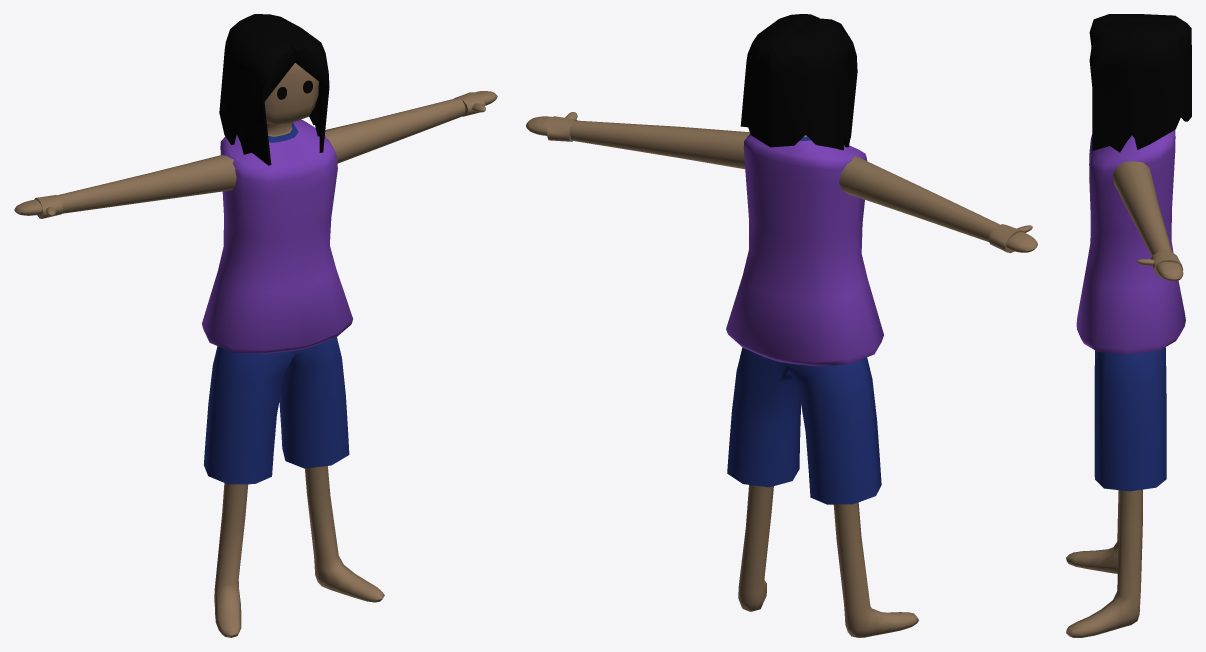
Rendered from personagemfeio (1).fbx.
3 renders of one model, left to right at view 1: azimuth 30°, elevation 25°; view 2: azimuth 150°, elevation 25°; view 3: azimuth 270°, elevation 25°, orthographic. The views are drawn at different scales.
Parts seen in each view (by area): view 1: Cube.006; view 2: Cube.006; view 3: Cube.006.
Part boxes in pixels (box(x1,y1,x2,y2)): Cube.006: box(14, 14, 497, 637); Cube.006: box(526, 14, 1037, 637); Cube.006: box(1066, 14, 1191, 637).
Bounding box in the file's own units: 1295 × 1466 × 288.
